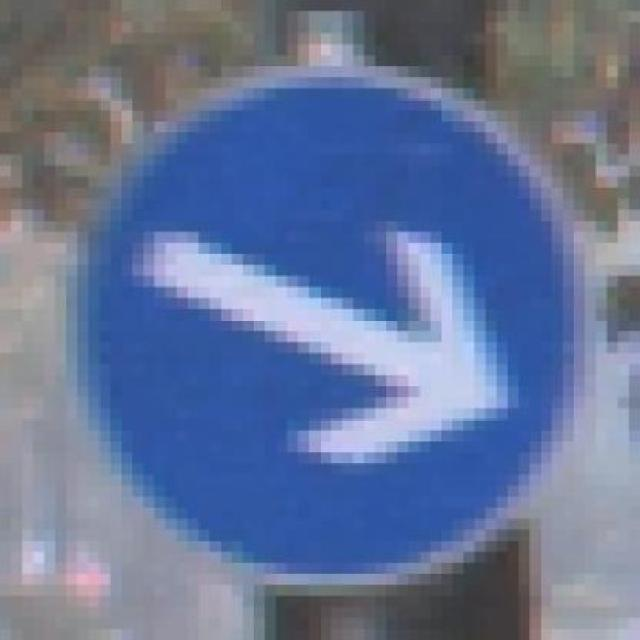Keep-Right: (44, 56, 596, 618)
